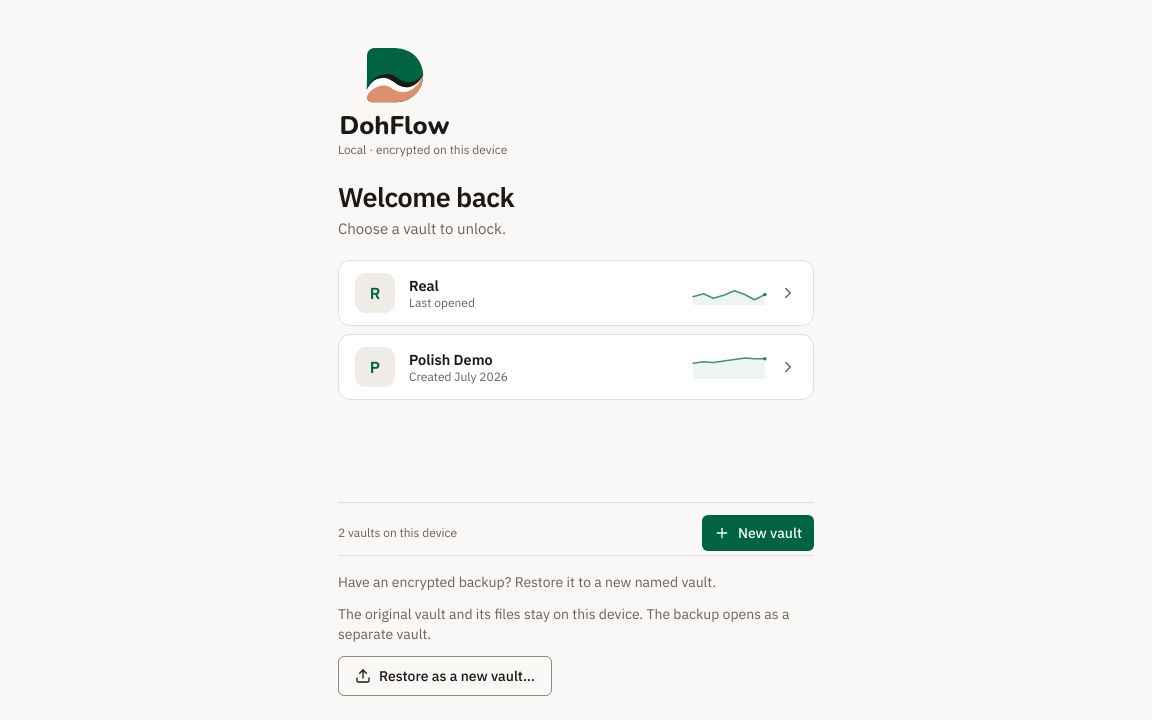
Test case: clicking the active vault opens its unlock modal without switching
The width and height of the screenshot is (1152, 720).
Click the button "R Real Last opened".
click(375, 293)  # box [338,260,814,326]
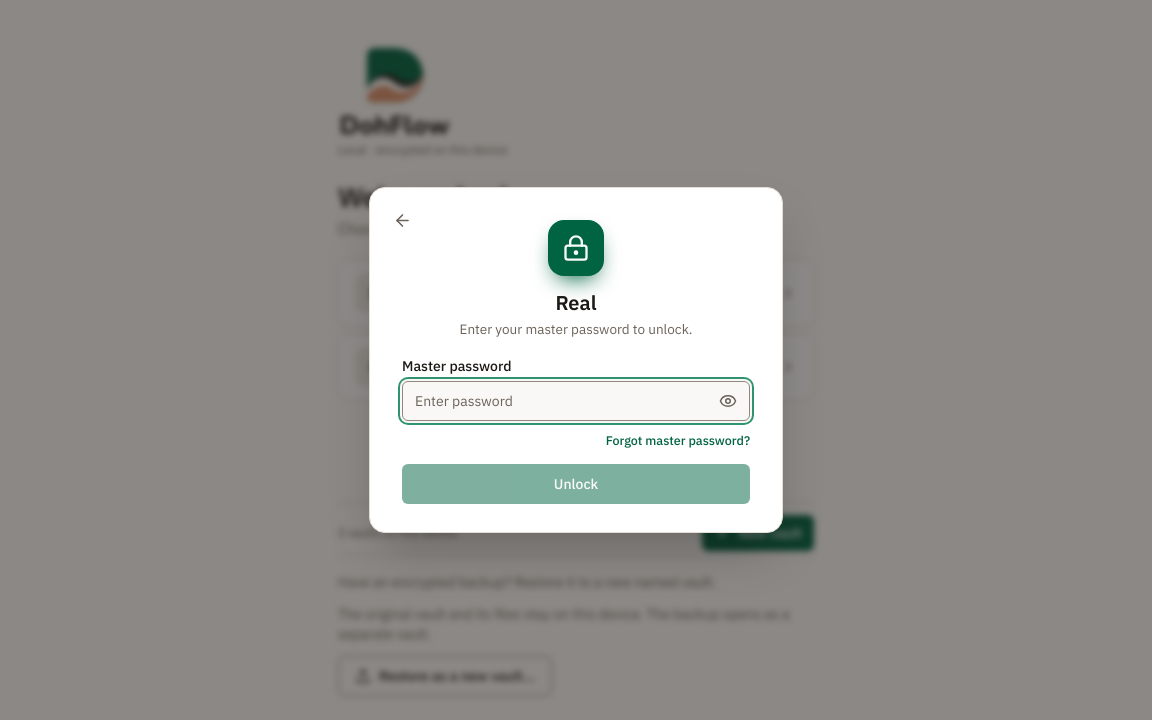
expect the dialog named "unlock real" is shown: met
